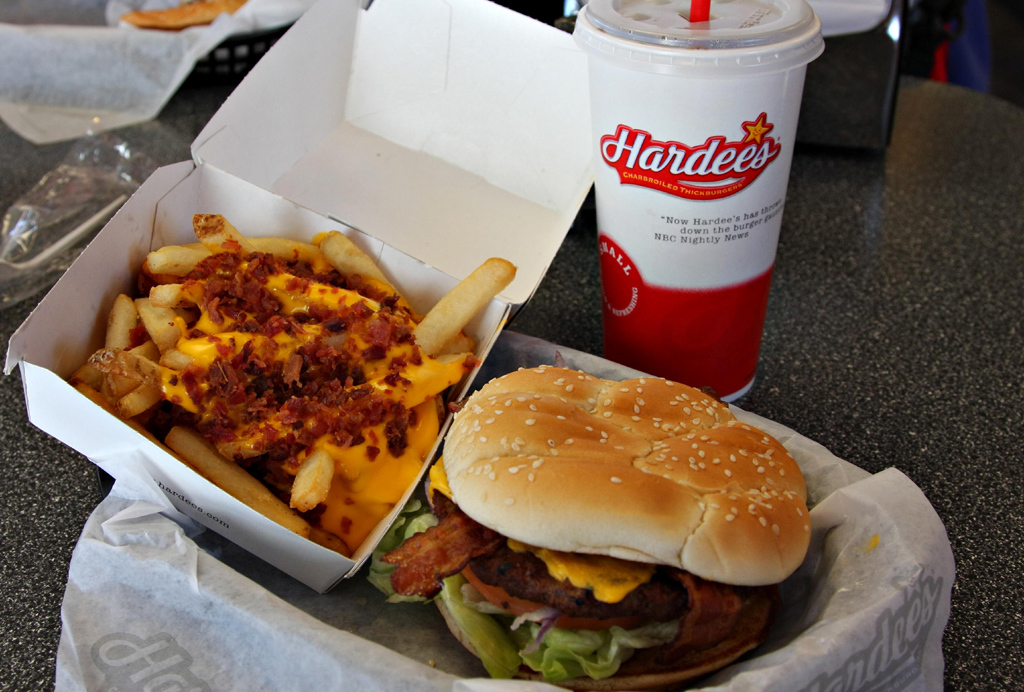French fries: (60, 230, 469, 535), (124, 0, 247, 27)
